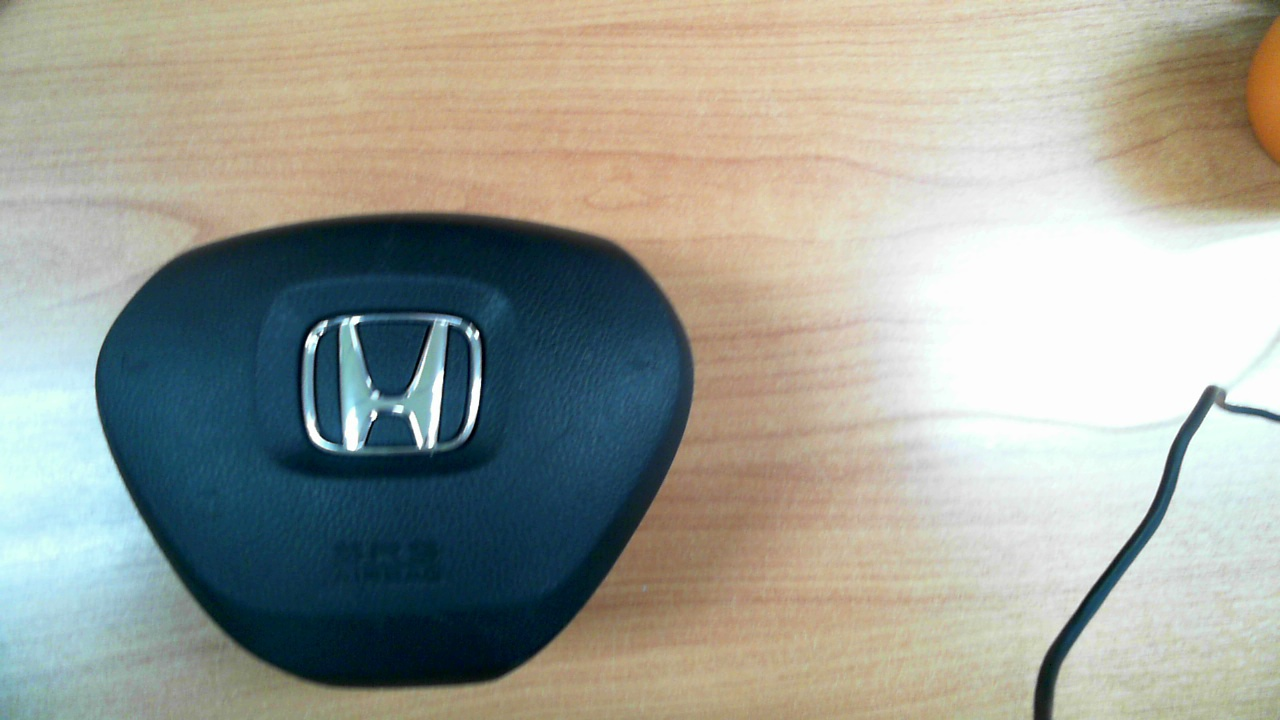Airbag: (95, 212, 695, 689)
Honda: (301, 312, 483, 457)
